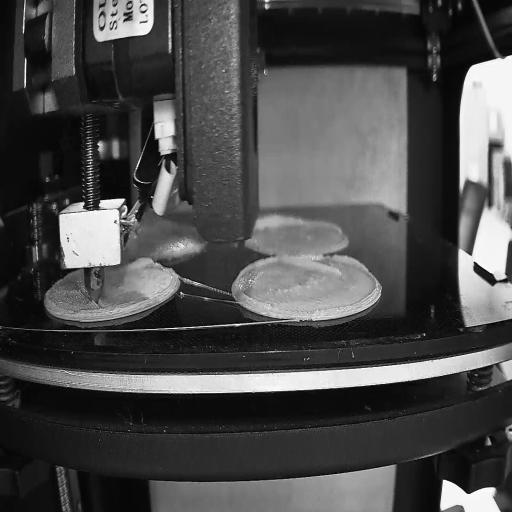over_extrusion: (234, 255, 277, 313), (282, 252, 369, 280), (256, 211, 301, 228), (118, 257, 156, 272)
